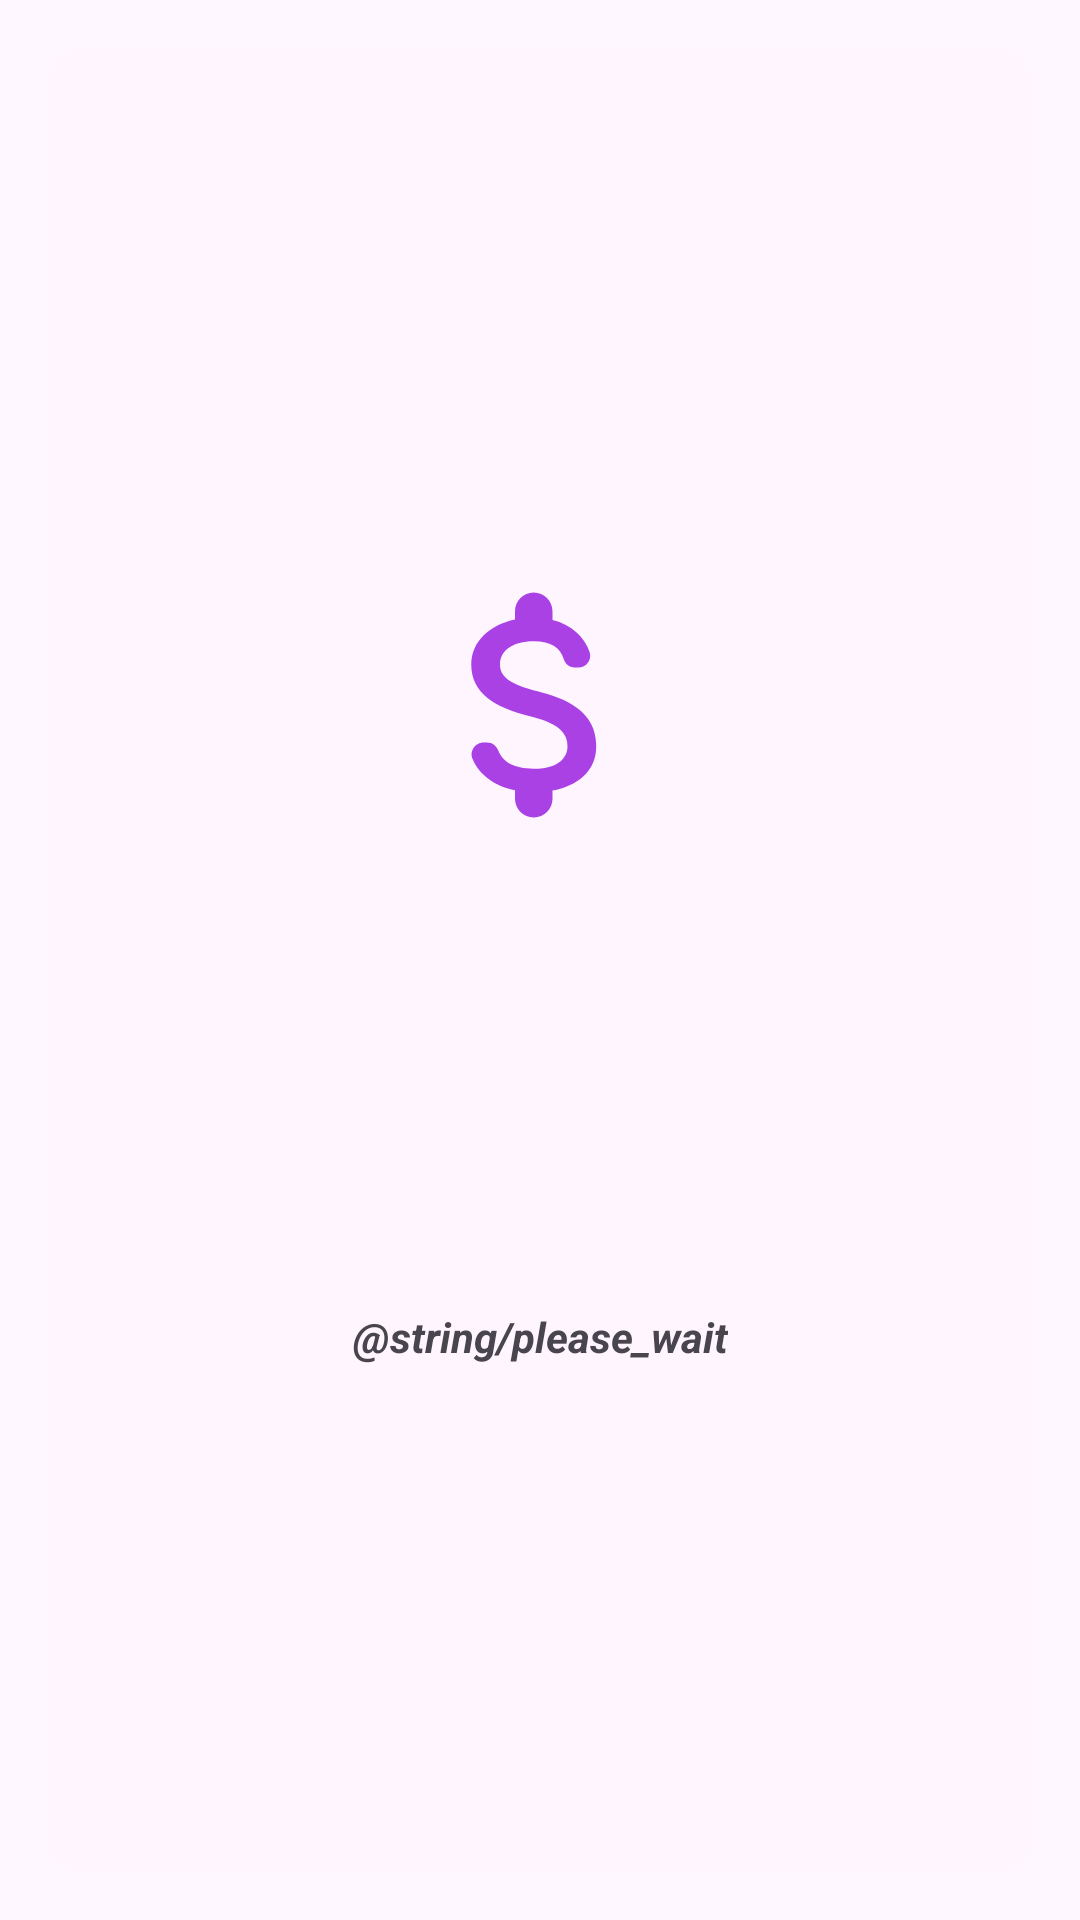

Named icons in this screenshot (1080×1920) and their centers, point (x, y):
attach money: point (534, 705)
